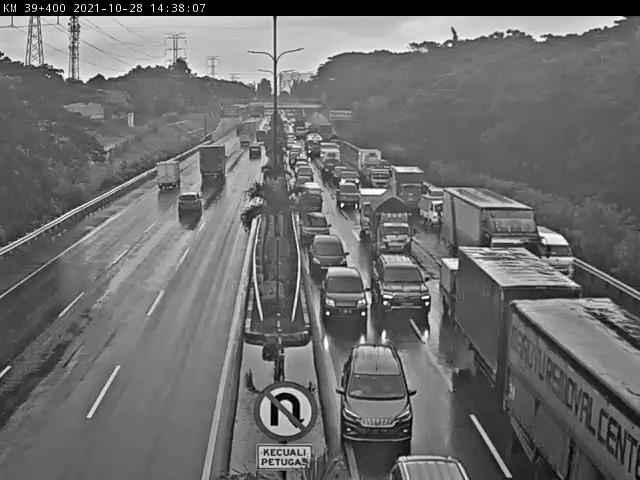big truck: (504, 289, 640, 480), (459, 241, 594, 408), (443, 188, 540, 279), (192, 136, 233, 183), (357, 150, 400, 188), (394, 165, 428, 208), (150, 153, 182, 196)
car: (332, 338, 435, 453), (374, 249, 429, 334), (320, 263, 379, 334), (310, 234, 350, 286), (167, 186, 210, 229), (300, 209, 334, 244), (339, 184, 360, 213), (298, 193, 326, 214), (247, 142, 266, 160), (305, 182, 323, 200), (341, 172, 362, 187), (294, 175, 313, 191), (296, 167, 315, 180)
small bus: (534, 221, 586, 282)
small truck: (372, 191, 417, 261), (443, 254, 477, 315), (361, 189, 395, 239), (422, 193, 456, 229)
